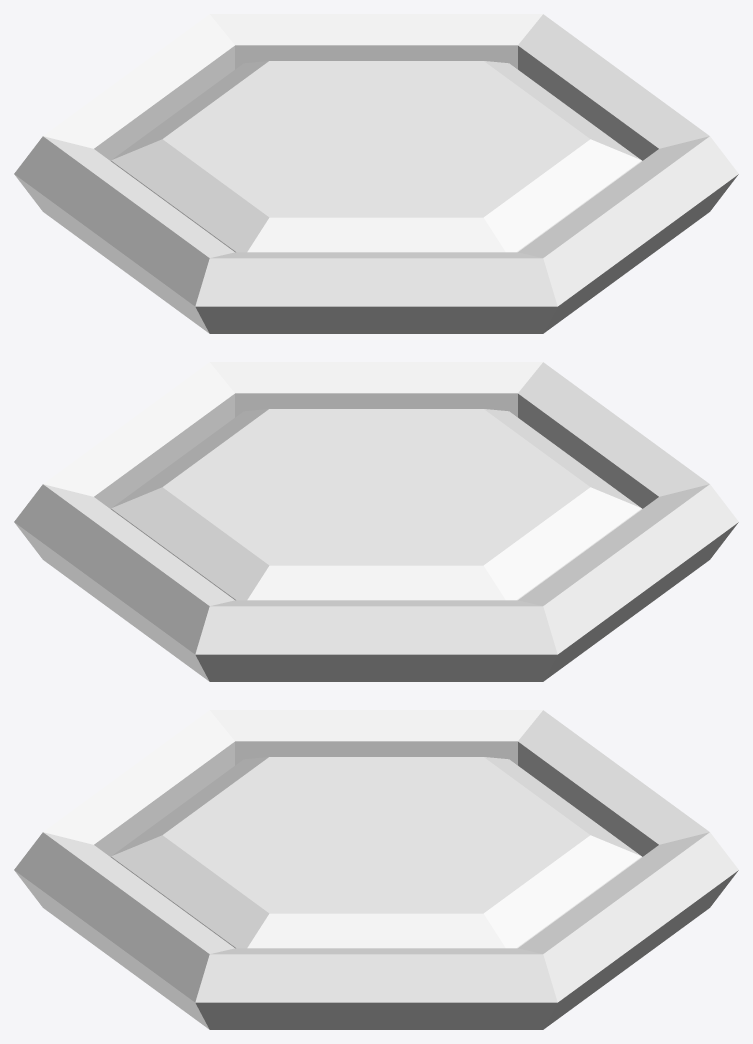
File: RuneBaseNew.fbx
3 views of the same model, one above another, from view 1: azimuth 30°, elevation 25°; view 2: azimuth 150°, elevation 25°; view 3: azimuth 270°, elevation 25° (orthographic).
Visible parts, largest first — view 1: Ring, Cube; view 2: Ring, Cube; view 3: Ring, Cube.
Boxes of the visible parts, left/top/right/bottom form: Ring: left=14, top=14, right=738, bottom=333; Cube: left=111, top=61, right=641, bottom=252; Ring: left=14, top=362, right=738, bottom=681; Cube: left=111, top=409, right=641, bottom=600; Ring: left=14, top=710, right=738, bottom=1029; Cube: left=111, top=757, right=641, bottom=948.
Size of the model in its own units: 1.98 by 2.28 by 0.2628.
